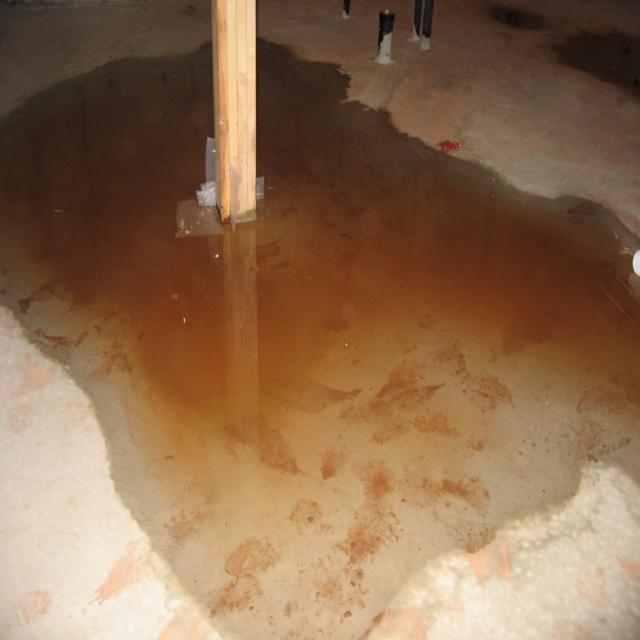Water_Leakage: (6, 13, 633, 617)
